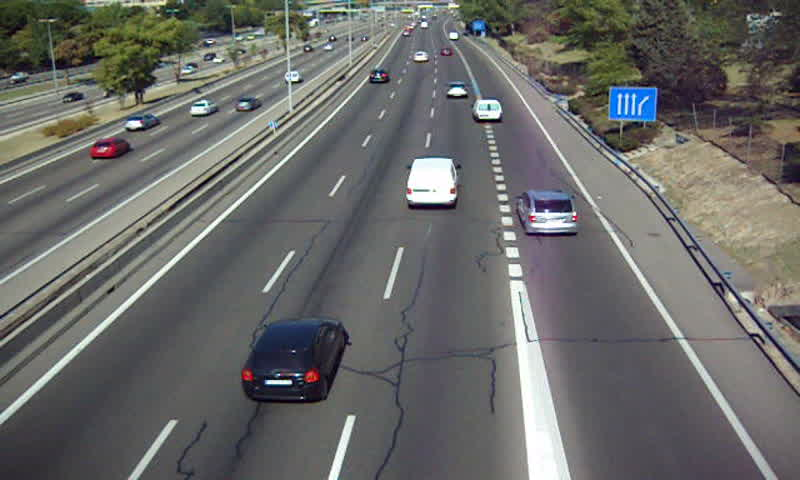car: (240, 320, 343, 402), (519, 192, 580, 235), (444, 82, 470, 100), (369, 68, 390, 85), (411, 49, 429, 62)
van: (408, 157, 457, 211), (472, 100, 501, 123)
